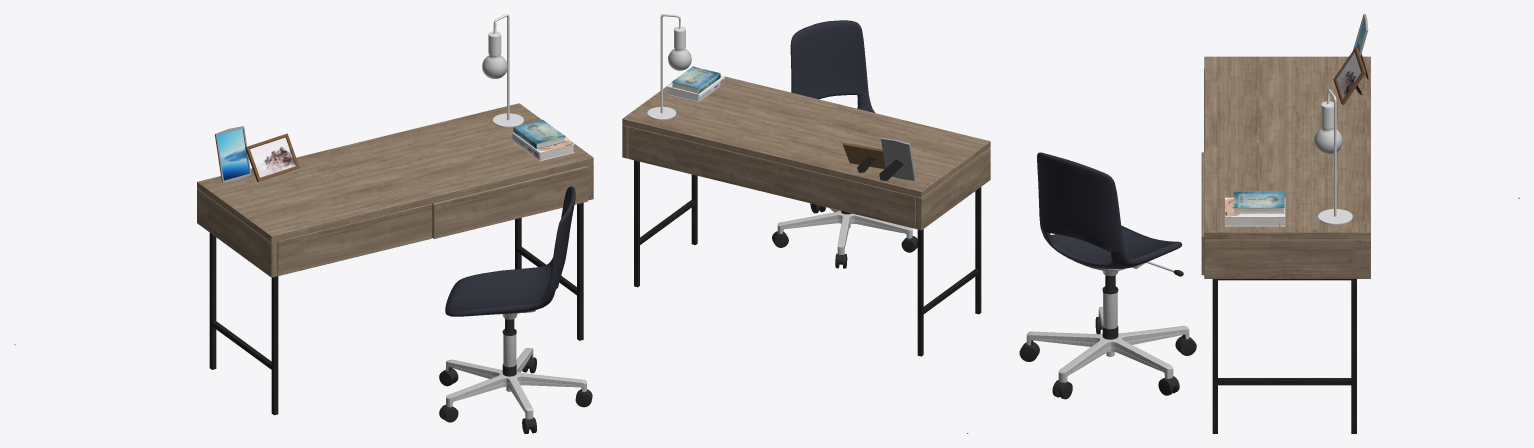
File: room.obj
The picture shows the model from 3 angles, left to right: view 1: azimuth 30°, elevation 25°; view 2: azimuth 150°, elevation 25°; view 3: azimuth 270°, elevation 25°; orthographic projection. The views are drawn at different scales.
Parts seen in each view (by area): view 1: Desk_Desk_0, Office-Chair_Office-Chair_0, Desk-Door_02_Desk_0, Desk-Door_01_Desk_0, Photography_Type1_Photography-Type_1_0, Photography_Type2_Photography-Type_2_0, Table-Lamp_Table-Lamp_0, Book-Type2_Book-Type_2_0, Book-Type1_Book-Type_1_0; view 2: Desk_Desk_0, Office-Chair_Office-Chair_0, Photography_Type2_Photography-Type_2_0, Table-Lamp_Table-Lamp_0, Photography_Type1_Photography-Type_1_0, Book-Type2_Book-Type_2_0, Book-Type1_Book-Type_1_0, Lamp-Decorative_03_Lamp_Decorative_0; view 3: Desk_Desk_0, Office-Chair_Office-Chair_0, Table-Lamp_Table-Lamp_0, Book-Type2_Book-Type_2_0, Photography_Type1_Photography-Type_1_0, Book-Type1_Book-Type_1_0, Lamp-Decorative_03_Lamp_Decorative_0, Desk-Door_01_Desk_0.
Part boxes in pixels (<box>): Desk_Desk_0: <box>197,103,593,415</box>; Office-Chair_Office-Chair_0: <box>439,186,592,433</box>; Desk-Door_02_Desk_0: <box>277,203,432,275</box>; Desk-Door_01_Desk_0: <box>432,166,587,238</box>; Photography_Type1_Photography-Type_1_0: <box>245,133,299,181</box>; Photography_Type2_Photography-Type_2_0: <box>215,126,251,182</box>; Table-Lamp_Table-Lamp_0: <box>488,14,523,127</box>; Book-Type2_Book-Type_2_0: <box>513,120,565,149</box>; Book-Type1_Book-Type_1_0: <box>512,132,574,161</box>; Desk_Desk_0: <box>622,76,990,356</box>; Office-Chair_Office-Chair_0: <box>772,20,917,268</box>; Photography_Type2_Photography-Type_2_0: <box>879,137,915,180</box>; Table-Lamp_Table-Lamp_0: <box>647,14,685,119</box>; Photography_Type1_Photography-Type_1_0: <box>842,142,885,172</box>; Book-Type2_Book-Type_2_0: <box>672,66,720,93</box>; Book-Type1_Book-Type_1_0: <box>667,75,724,102</box>; Lamp-Decorative_03_Lamp_Decorative_0: <box>668,48,691,70</box>; Desk_Desk_0: <box>1204,56,1370,433</box>; Office-Chair_Office-Chair_0: <box>1019,152,1196,399</box>; Table-Lamp_Table-Lamp_0: <box>1318,89,1352,224</box>; Book-Type2_Book-Type_2_0: <box>1233,191,1284,213</box>; Photography_Type1_Photography-Type_1_0: <box>1333,47,1365,104</box>; Book-Type1_Book-Type_1_0: <box>1224,197,1285,226</box>; Lamp-Decorative_03_Lamp_Decorative_0: <box>1314,128,1342,154</box>; Desk-Door_01_Desk_0: <box>1201,152,1204,275</box>.
Bounding box in the file's own units: 2040 × 1296 × 1802.
